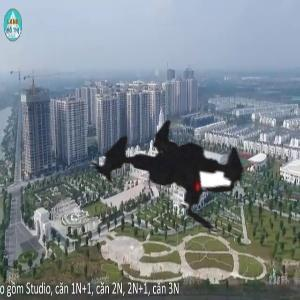drone: (56, 67, 284, 295)
